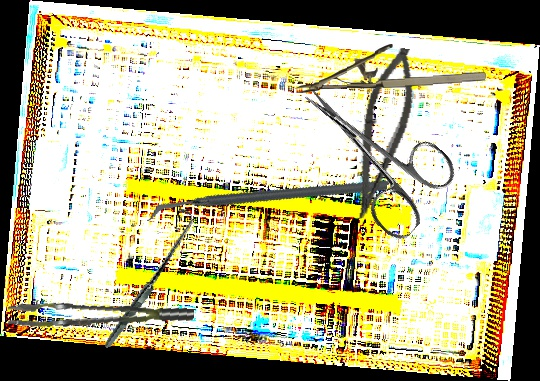Chopper: (146, 113, 390, 288)
Hook Surgical: (74, 206, 221, 349)
Iris Scissors: (274, 58, 466, 246)
Micro Scissor: (345, 43, 423, 225)
Needle Holder: (293, 40, 487, 94)
Tissue Forceps: (6, 286, 195, 347)
